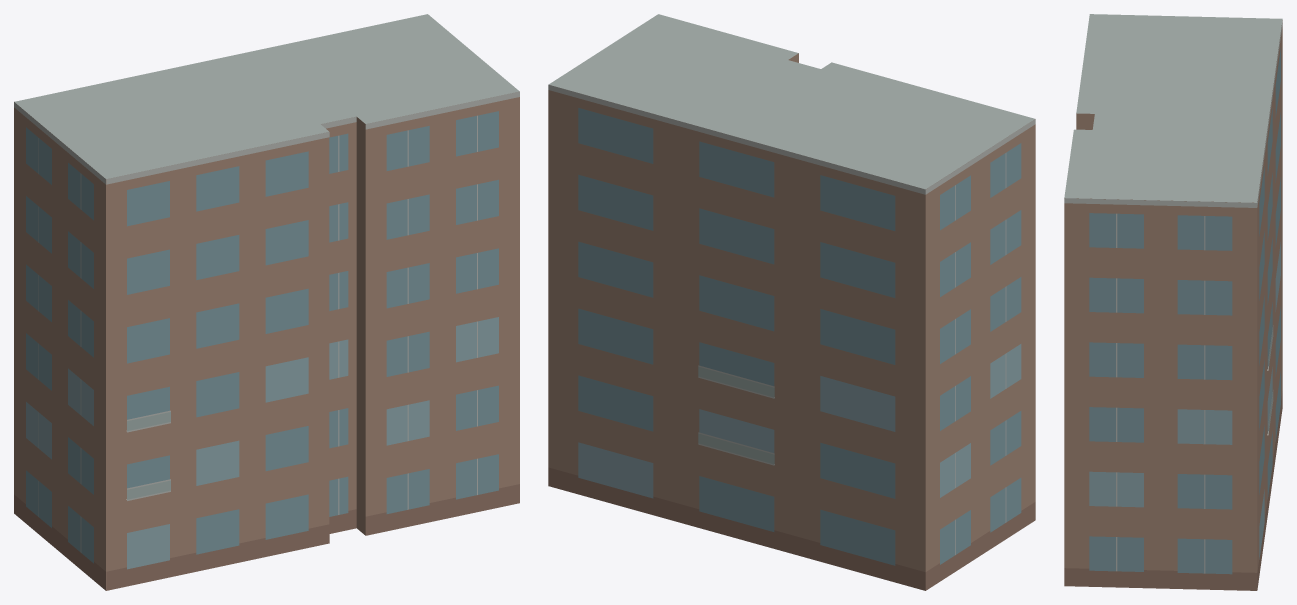
File: survey-upis-32552468.glb
3 renders of one model, left to right at view 1: azimuth 30°, elevation 25°; view 2: azimuth 150°, elevation 25°; view 3: azimuth 270°, elevation 25°, orthographic. The views are drawn at different scales.
Parts seen in each view (by area): view 1: survey-upis-32552468.tmp; view 2: survey-upis-32552468.tmp; view 3: survey-upis-32552468.tmp.
Part boxes in pixels (bbox=[...]): survey-upis-32552468.tmp: bbox=[14, 14, 519, 590]; survey-upis-32552468.tmp: bbox=[548, 14, 1035, 590]; survey-upis-32552468.tmp: bbox=[1064, 14, 1282, 590].
Size of the model in its own units: 19.11 by 18.3 by 9.34.
